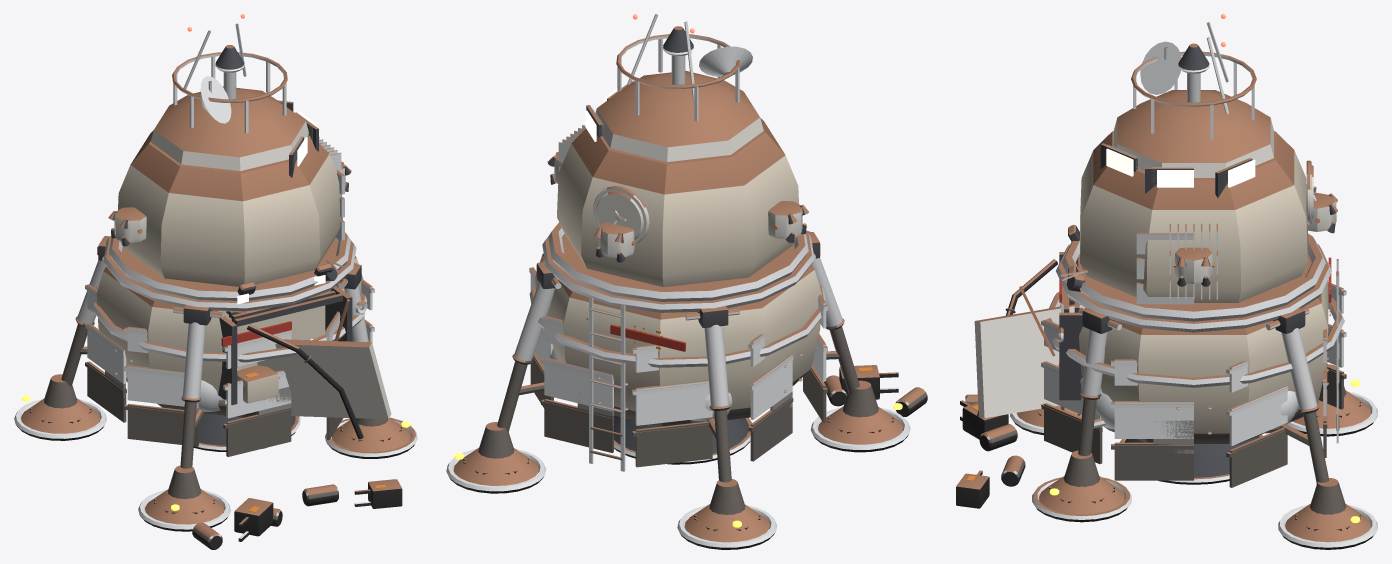
The model's file is lander.glb.
The picture shows the model from 3 angles, left to right: view 1: azimuth 30°, elevation 25°; view 2: azimuth 150°, elevation 25°; view 3: azimuth 270°, elevation 25°; orthographic projection. The views are drawn at different scales.
Visible parts, largest first — view 1: lander_body; view 2: lander_body; view 3: lander_body.
Part boxes in pixels (x1=…): lander_body: x1=14, y1=14, x2=417, y2=549; lander_body: x1=446, y1=14, x2=927, y2=549; lander_body: x1=956, y1=14, x2=1377, y2=549.
Bounding box in the file's own units: 4.01 × 5.36 × 4.58.
